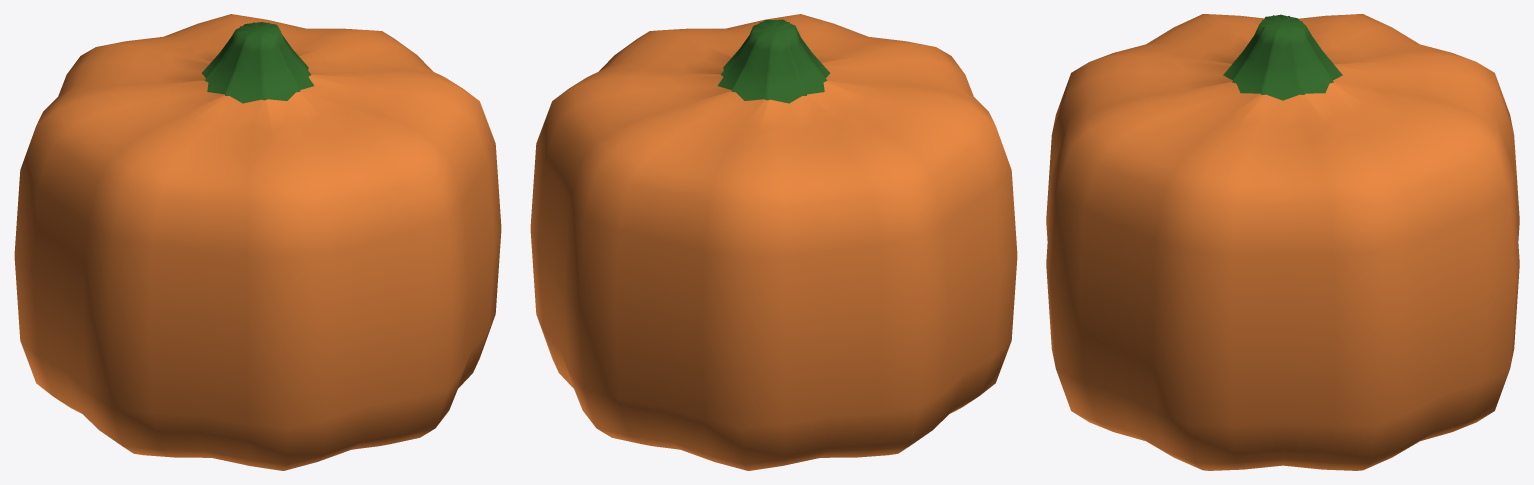
File: pumpkin2.fbx
The picture shows the model from 3 angles, left to right: view 1: azimuth 30°, elevation 25°; view 2: azimuth 150°, elevation 25°; view 3: azimuth 270°, elevation 25°; orthographic projection. The views are drawn at different scales.
Parts seen in each view (by area): view 1: Cylinder.003; view 2: Cylinder.003; view 3: Cylinder.003.
Boxes of the visible parts, x1,y1,x2,y2 form: Cylinder.003: (14,14,501,470); Cylinder.003: (530,14,1017,470); Cylinder.003: (1046,14,1519,470).
Bounding box in the file's own units: 152 × 135 × 152.
